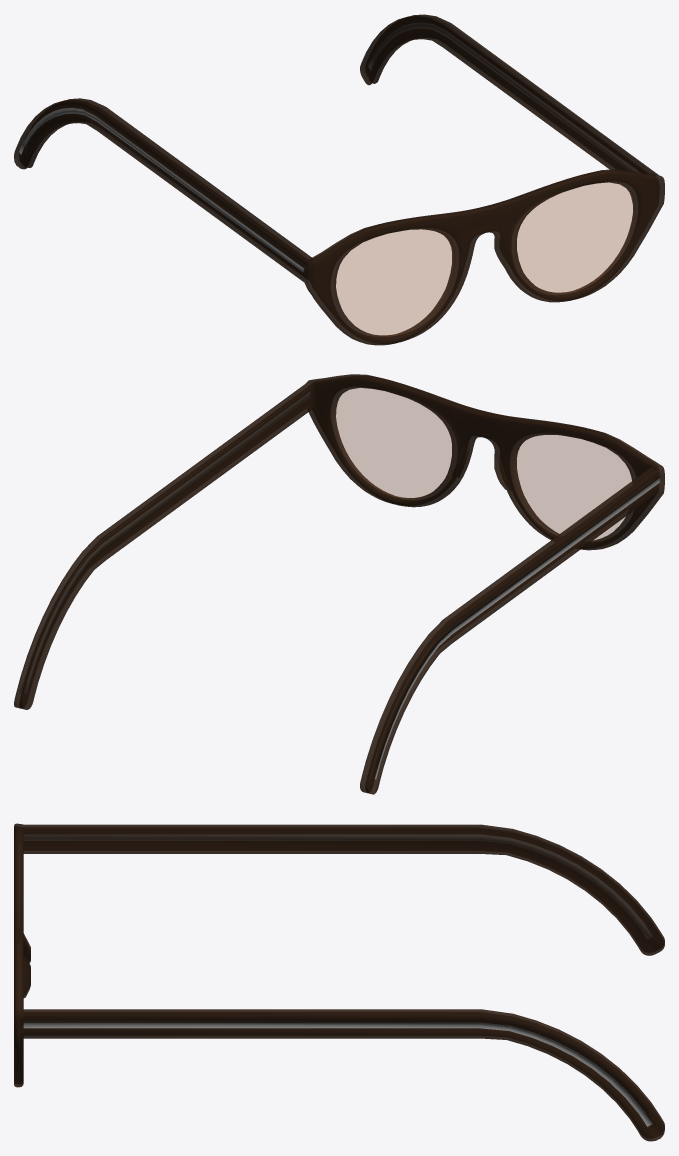
3 renders of one model, top to bottom at view 1: azimuth 30°, elevation 25°; view 2: azimuth 150°, elevation 25°; view 3: azimuth 270°, elevation 25°, orthographic. The views are drawn at different scales.
Visible parts, largest first — view 1: f3; view 2: f3; view 3: f3.
Part boxes in pixels (x1,y1,x2,y2): f3: (14,14,664,345); f3: (14,374,664,794); f3: (14,823,664,1141).
Bounding box in the file's own units: 14.02 × 5.11 × 20.09.
